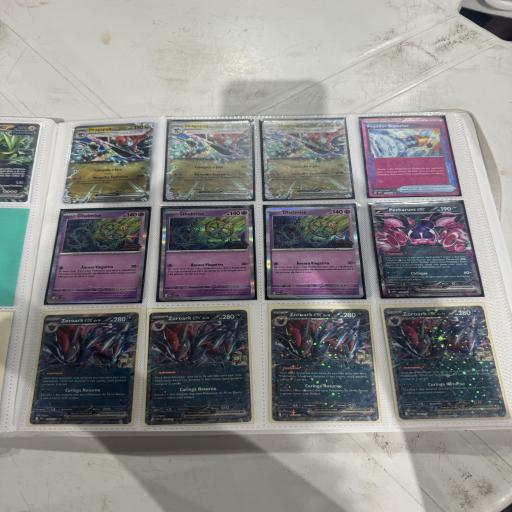card: (384, 294, 507, 432), (142, 310, 253, 425), (29, 311, 140, 425), (271, 308, 379, 422), (372, 203, 483, 298), (46, 208, 149, 305), (157, 207, 256, 301), (265, 206, 365, 299), (361, 116, 459, 198), (63, 119, 154, 207), (262, 119, 355, 200), (164, 120, 254, 202)
